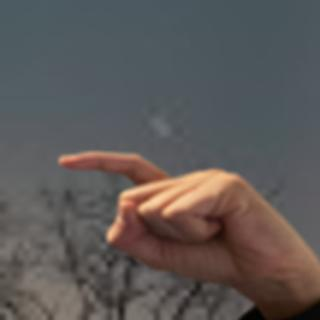WHY: (48, 133, 315, 308)
